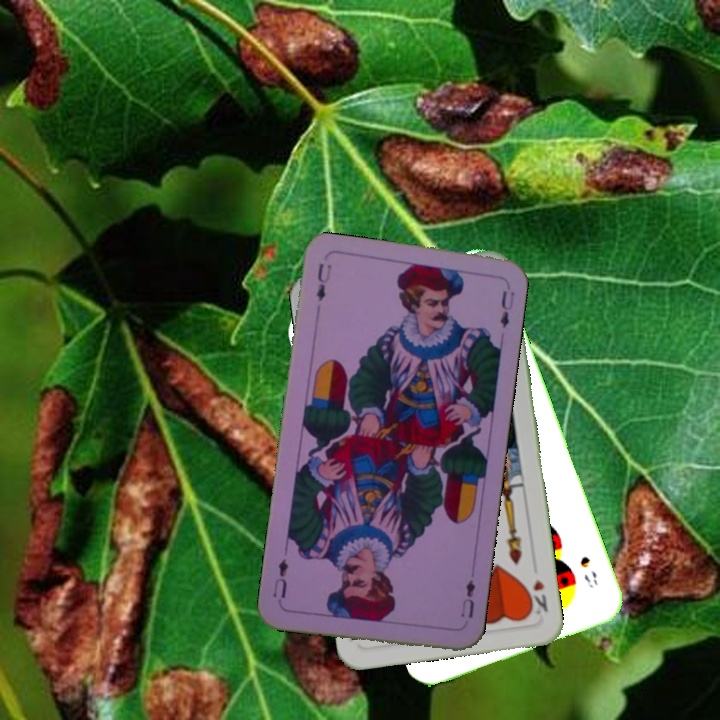EU: (456, 575, 478, 621), (312, 259, 334, 304)
HK: (523, 575, 550, 617)
S8: (575, 552, 600, 591)
